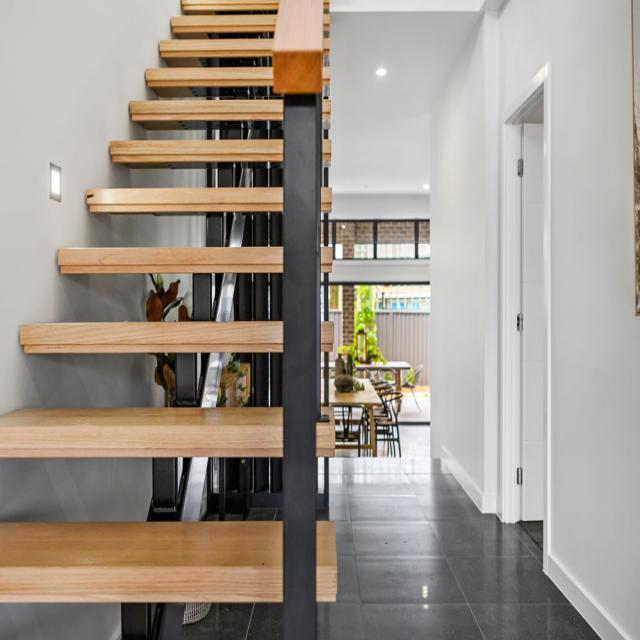stairs: (0, 0, 337, 633)
